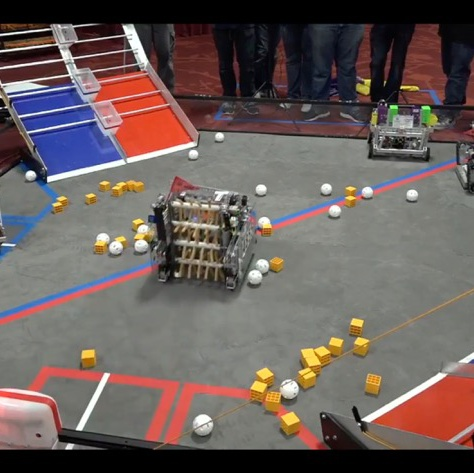robot: (148, 174, 259, 294), (364, 98, 441, 165), (454, 138, 474, 195)
